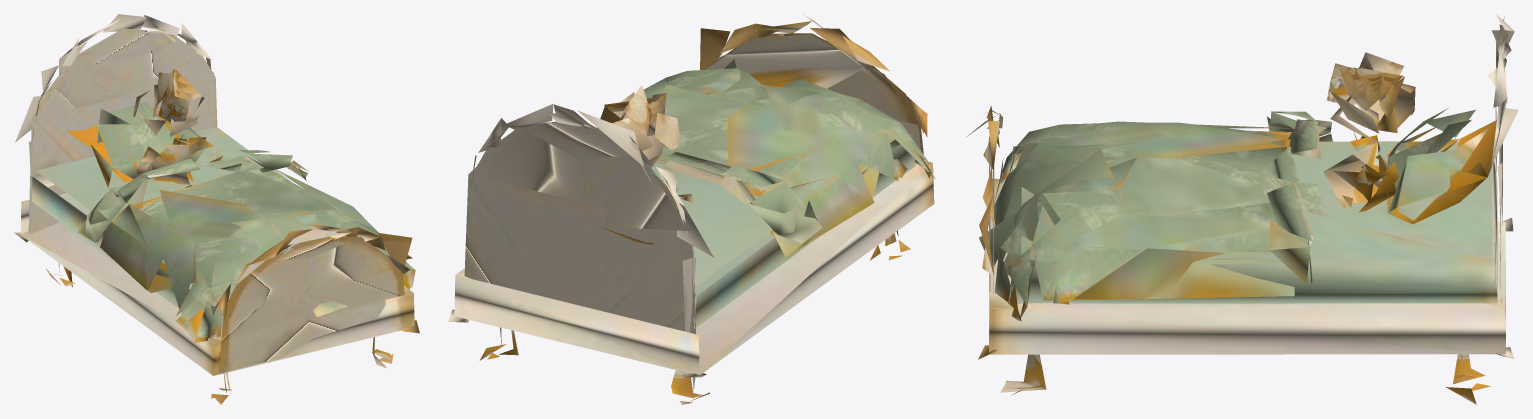
Rendered from bed.lod1.glb.
3 renders of one model, left to right at view 1: azimuth 30°, elevation 25°; view 2: azimuth 150°, elevation 25°; view 3: azimuth 270°, elevation 25°, orthographic. The views are drawn at different scales.
Visible parts, largest first — view 1: bed_lod1; view 2: bed_lod1; view 3: bed_lod1.
Boxes of the visible parts, x1,y1,x2,y2 form: bed_lod1: (14,14,419,404); bed_lod1: (448,15,935,404); bed_lod1: (965,14,1518,404).
Bounding box in the file's own units: 0.8919 × 0.8517 × 1.34.
Materials: 1 (1 with a texture image).
